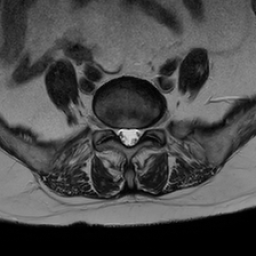CCS_normal: (125, 120, 132, 153)
LFS_severe_stenosis: (141, 120, 150, 139)
LLS_normal: (132, 122, 141, 148)
RFS_severe_stenosis: (109, 118, 117, 140)
RLS_normal: (117, 121, 125, 148)
